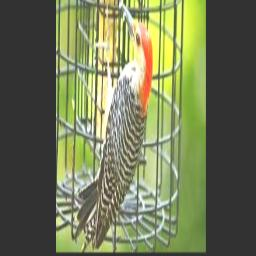Woodpecker: (77, 0, 153, 250)
